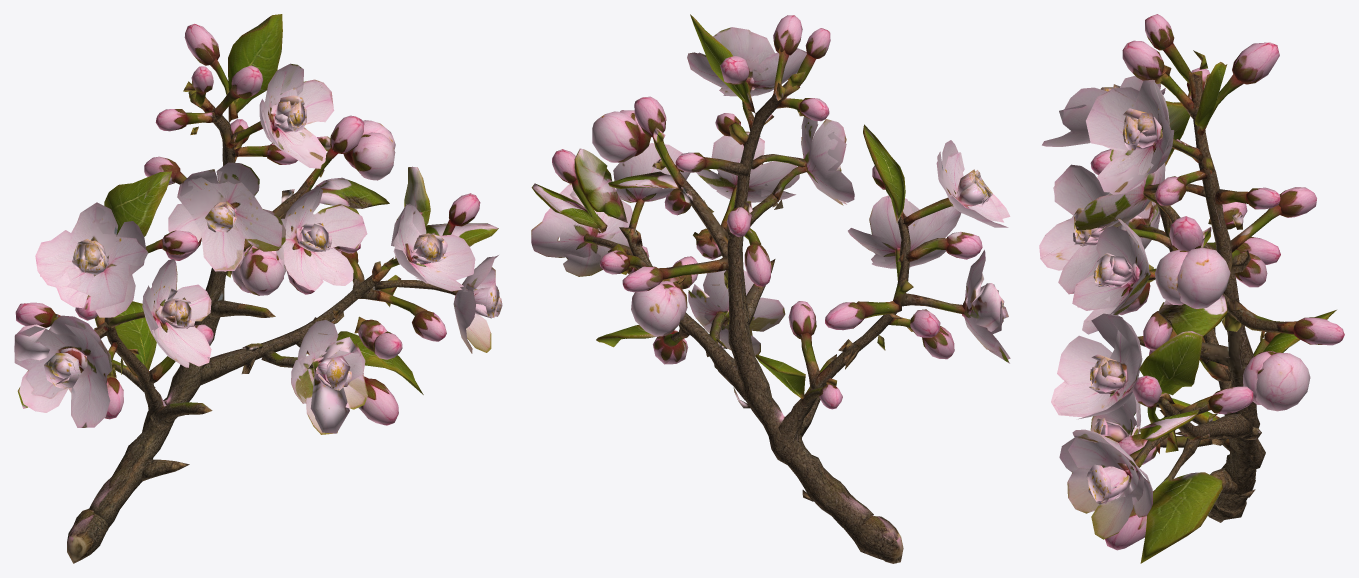
The model's file is Meshy_AI_Spring_Cherry_Blossom_0915195342_texture.glb.
The picture shows the model from 3 angles, left to right: view 1: azimuth 30°, elevation 25°; view 2: azimuth 150°, elevation 25°; view 3: azimuth 270°, elevation 25°; orthographic projection. The views are drawn at different scales.
Size of the model in its own units: 1 by 1 by 0.4873.
Materials: 1 (1 with a texture image).
